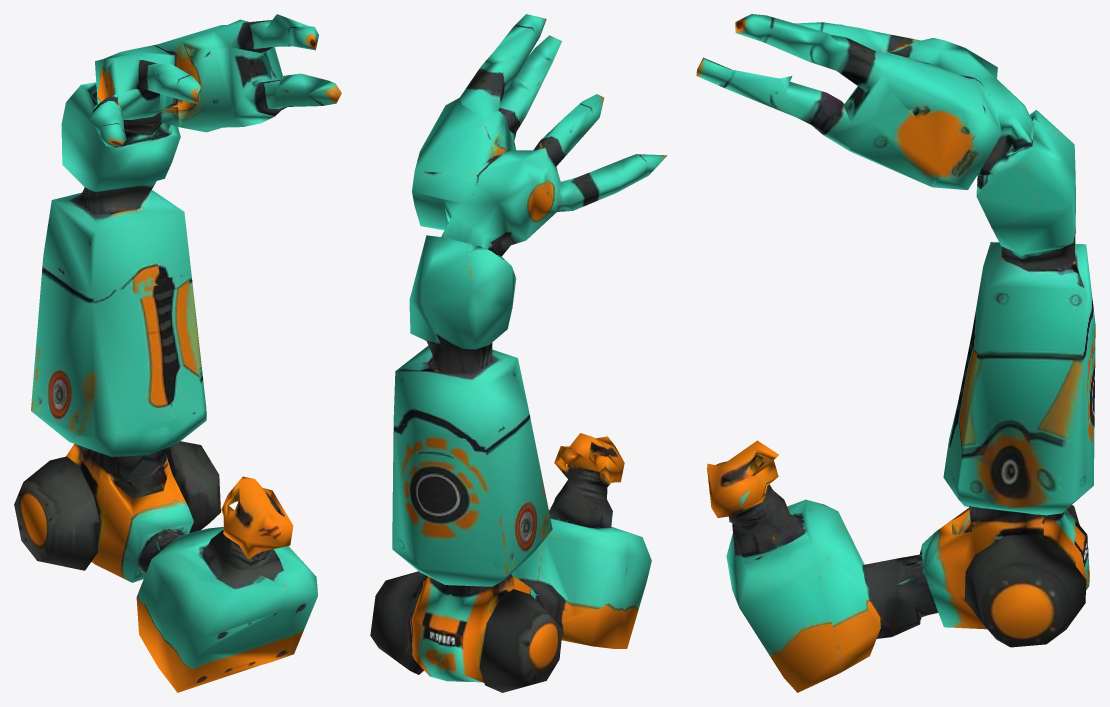
File: robotarm.min.glb
The picture shows the model from 3 angles, left to right: view 1: azimuth 30°, elevation 25°; view 2: azimuth 150°, elevation 25°; view 3: azimuth 270°, elevation 25°; orthographic projection. The views are drawn at different scales.
Bounding box in the file's own units: 0.6153 × 1.89 × 1.01.
1 material, 1 textured.
